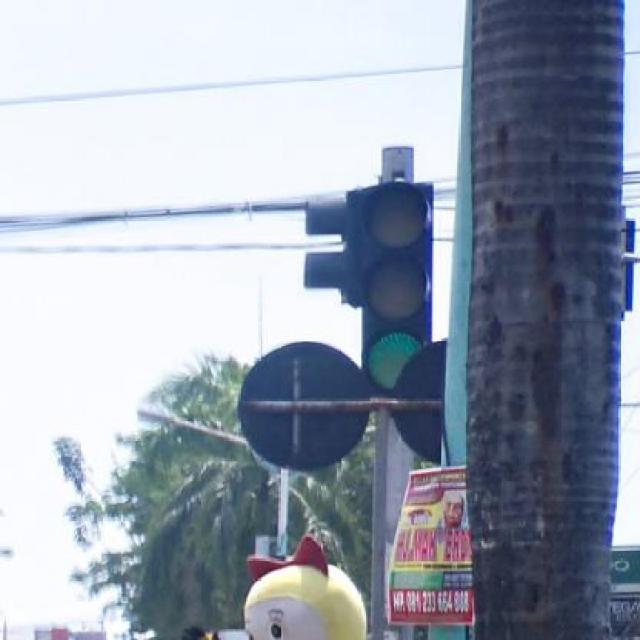traffic light: (362, 182, 433, 398)
